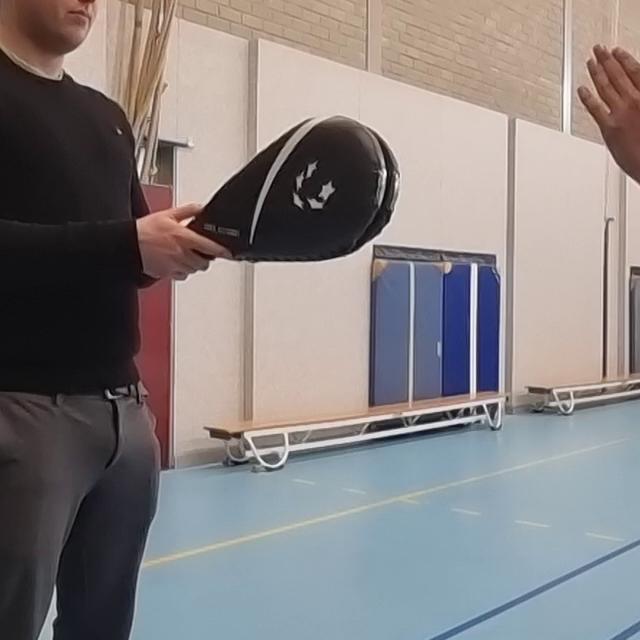paddle: (184, 107, 404, 274)
